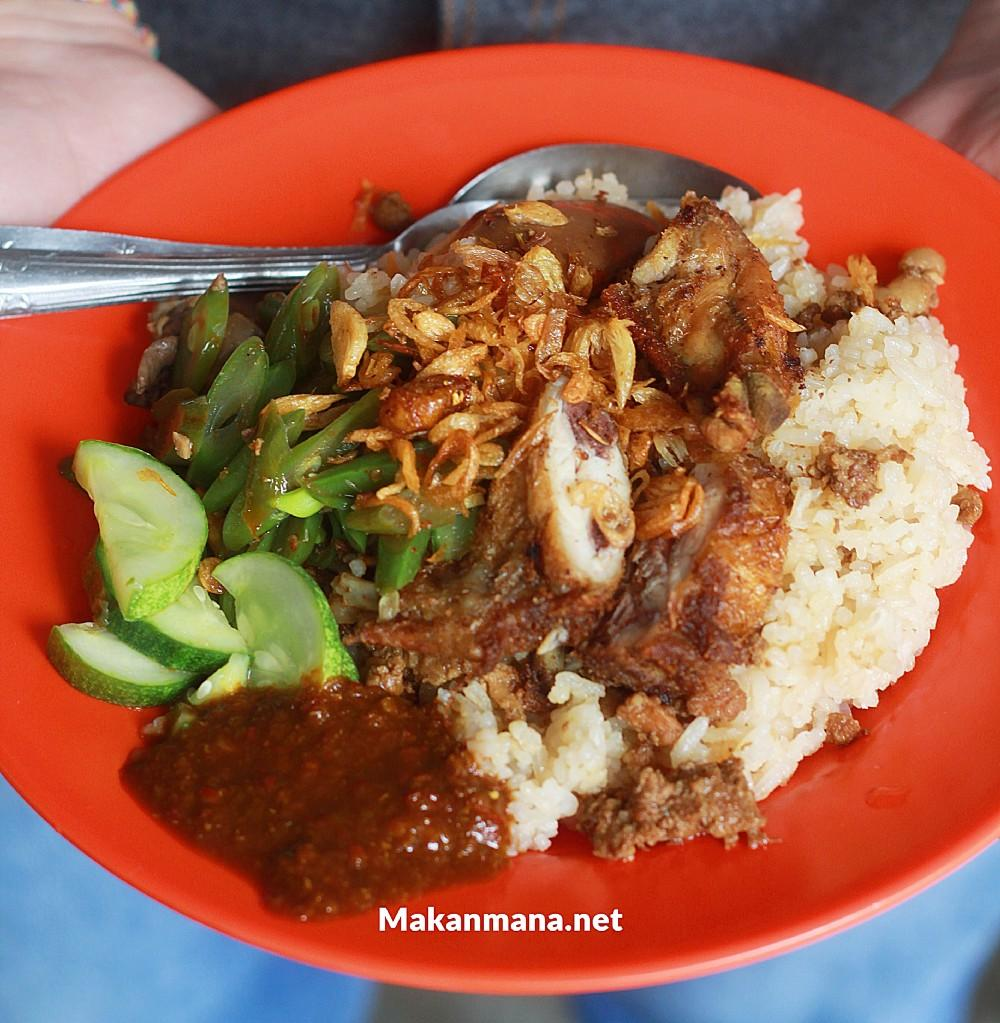buah_sayur_lainnya: (80, 440, 361, 626), (216, 718, 418, 833)
daging: (464, 236, 721, 543)
makanan_berpati: (810, 352, 924, 626)
